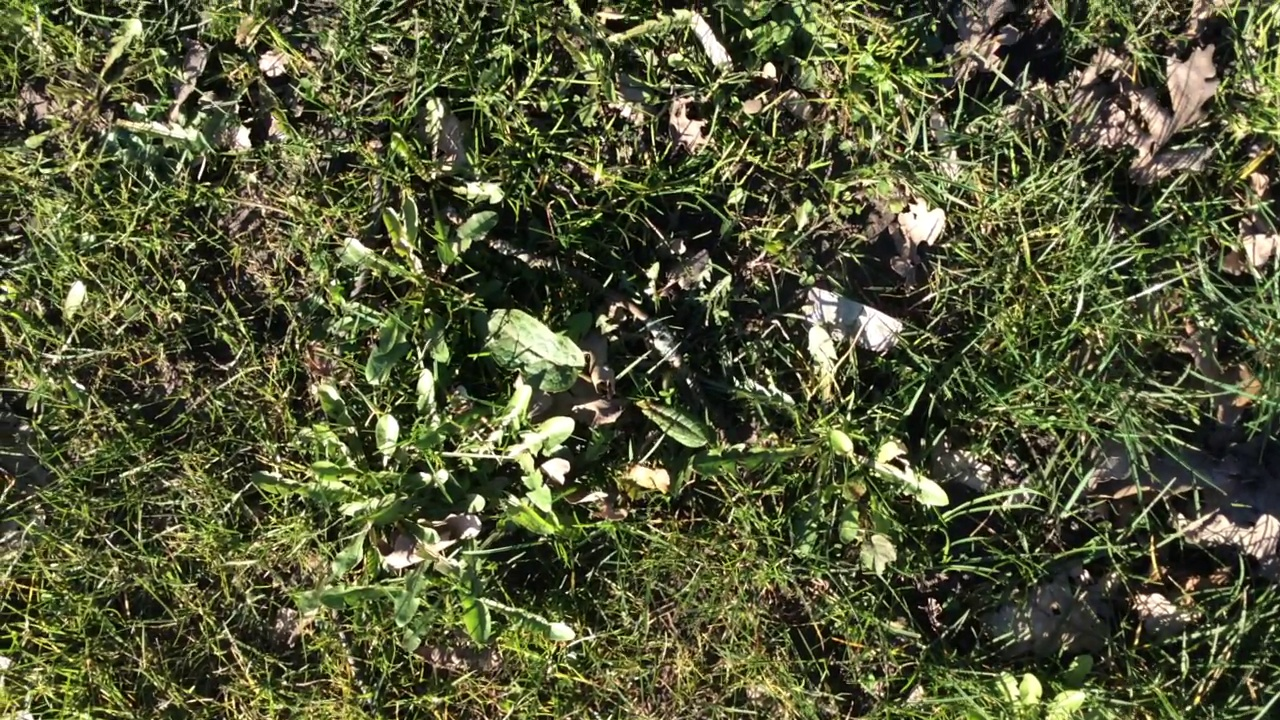rumex: (468, 307, 584, 394), (633, 399, 710, 448)
